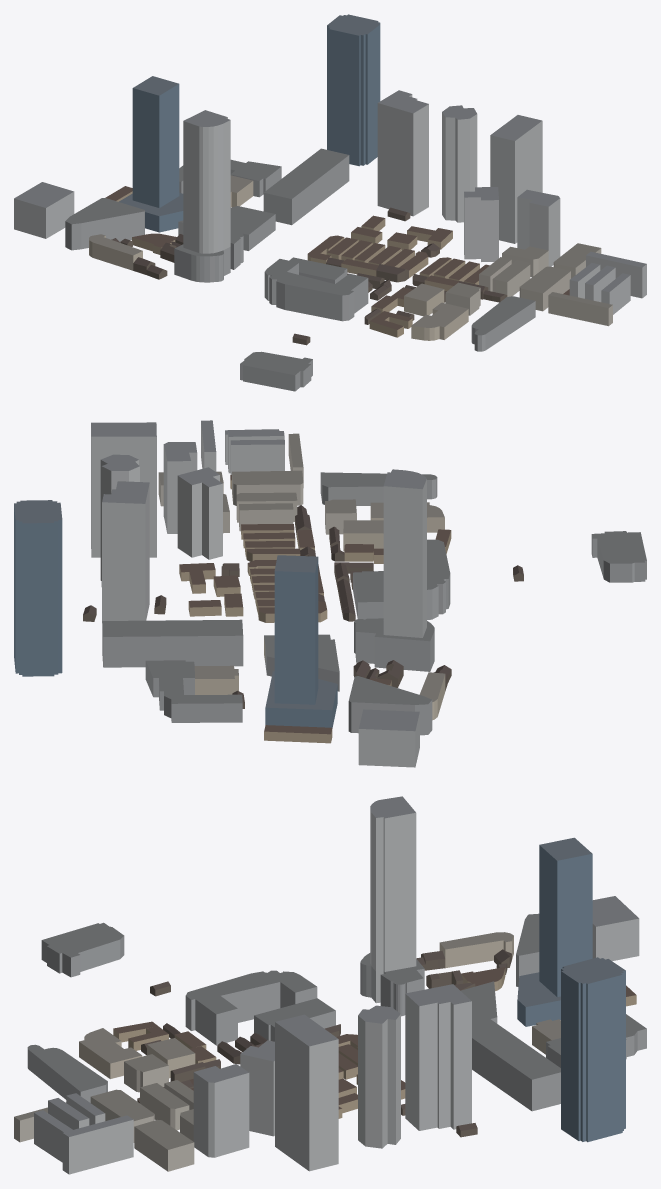
The model's file is tile_4_8.glb.
3 renders of one model, top to bottom at view 1: azimuth 30°, elevation 25°; view 2: azimuth 150°, elevation 25°; view 3: azimuth 270°, elevation 25°, orthographic. The views are drawn at different scales.
Visible parts, largest first — view 1: HP-w165909803, HP-w1197334329, HP-w526007302, HP-w369238021, HP-w369237940, HP-w369238007, HP-w369237948, HP-w369237833, HP-w292718768, HP-w192040784, HP-w428179900, HP-w369238020 (+22 smaller); view 2: HP-w1197334329, HP-w165909803, HP-w526007302, HP-w369238021, HP-w369237948, HP-w369237940, HP-w369238011, HP-w369238020, HP-w192040784, HP-w178702676, HP-w292718768, HP-w133465370 (+25 smaller); view 3: HP-w165909803, HP-w369238021, HP-w369237940, HP-w1197334329, HP-w526007302, HP-w369237833, HP-w369238007, HP-w369237948, HP-w428179900, HP-w133465370, HP-w369237946, HP-w192040784 (+20 smaller).
Boxes of the visible parts, left/top/right/bottom form: HP-w165909803: left=327, top=14, right=380, bottom=166; HP-w1197334329: left=119, top=76, right=183, bottom=232; HP-w526007302: left=183, top=110, right=230, bottom=253; HP-w369238021: left=377, top=90, right=428, bottom=216; HP-w369237940: left=490, top=115, right=542, bottom=243; HP-w369238007: left=264, top=259, right=368, bottom=321; HP-w369237948: left=263, top=148, right=349, bottom=225; HP-w369237833: left=442, top=105, right=477, bottom=222; HP-w292718768: left=65, top=198, right=144, bottom=250; HP-w192040784: left=14, top=182, right=74, bottom=238; HP-w428179900: left=517, top=189, right=560, bottom=266; HP-w369238020: left=464, top=187, right=498, bottom=261; HP-w1197334329: left=265, top=555, right=337, bottom=728; HP-w165909803: left=14, top=500, right=62, bottom=676; HP-w526007302: left=383, top=469, right=426, bottom=637; HP-w369238021: left=102, top=481, right=149, bottom=622; HP-w369237948: left=102, top=619, right=243, bottom=667; HP-w369237940: left=91, top=422, right=156, bottom=557; HP-w369238011: left=145, top=660, right=242, bottom=722; HP-w369238020: left=177, top=467, right=222, bottom=559; HP-w192040784: left=358, top=709, right=419, bottom=767; HP-w178702676: left=354, top=618, right=434, bottom=671; HP-w292718768: left=348, top=676, right=432, bottom=735; HP-w133465370: left=591, top=531, right=646, bottom=582; HP-w165909803: left=561, top=957, right=625, bottom=1142; HP-w369238021: left=405, top=984, right=471, bottom=1130; HP-w369237940: left=275, top=1014, right=338, bottom=1171; HP-w1197334329: left=517, top=837, right=592, bottom=1026; HP-w526007302: left=370, top=796, right=416, bottom=1003; HP-w369237833: left=358, top=1005, right=400, bottom=1148; HP-w369238007: left=185, top=970, right=317, bottom=1045; HP-w369237948: left=472, top=1019, right=560, bottom=1111; HP-w428179900: left=193, top=1064, right=249, bottom=1157; HP-w133465370: left=41, top=922, right=124, bottom=977; HP-w369237946: left=62, top=1115, right=133, bottom=1174; HP-w192040784: left=592, top=896, right=639, bottom=961.
Bounding box in the file's own units: 497 × 178 × 551.
